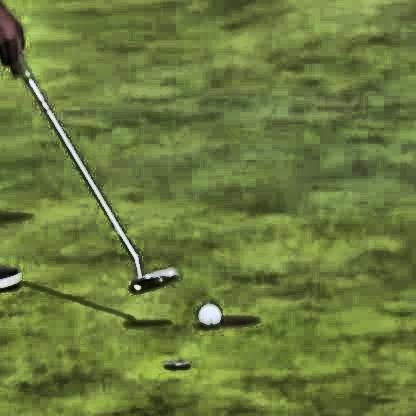golfball: (194, 305, 219, 327)
